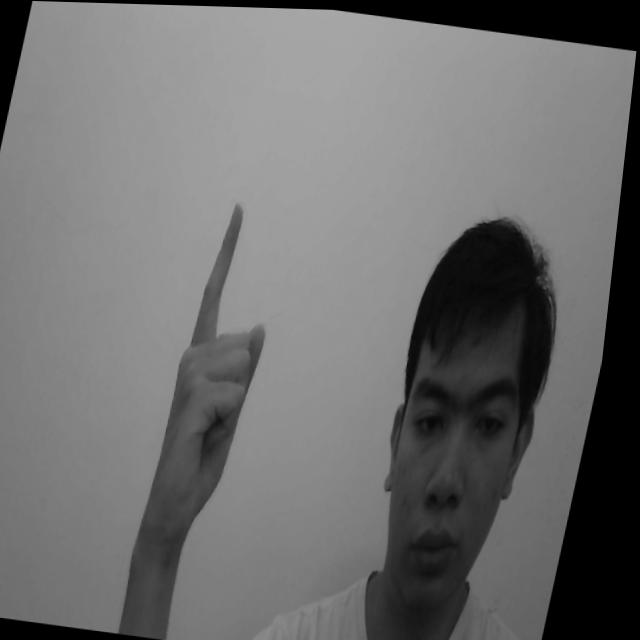D: (151, 198, 301, 545)
